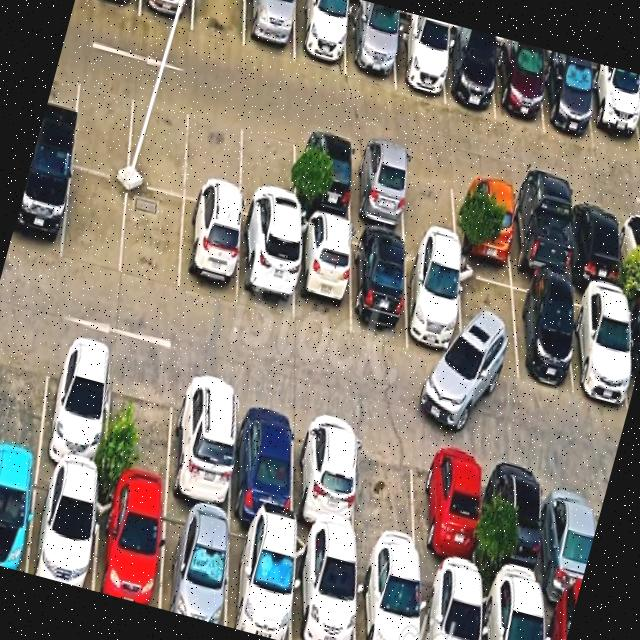empty: (103, 352, 175, 499), (356, 420, 419, 566), (127, 83, 192, 197), (61, 167, 128, 275), (0, 322, 51, 461), (458, 260, 517, 380), (71, 68, 134, 179), (120, 184, 184, 293), (239, 113, 295, 227), (184, 99, 241, 211), (403, 154, 457, 247), (191, 0, 245, 47)
occupied: (38, 334, 112, 480), (168, 370, 237, 516), (230, 387, 295, 529), (293, 403, 355, 548), (27, 466, 98, 590), (159, 501, 228, 626), (94, 484, 163, 608), (419, 435, 477, 582), (225, 519, 293, 640), (490, 452, 543, 596), (570, 283, 630, 406), (511, 273, 572, 389), (544, 466, 595, 604), (8, 151, 71, 260), (406, 244, 462, 365), (291, 535, 355, 640), (350, 229, 407, 346), (294, 216, 350, 335), (178, 199, 239, 306), (236, 216, 293, 321), (511, 182, 568, 281), (457, 168, 512, 264), (296, 128, 351, 224), (357, 555, 418, 640), (352, 141, 405, 235), (587, 70, 640, 161), (569, 196, 621, 288), (543, 55, 593, 148), (495, 43, 544, 133), (0, 457, 38, 572), (420, 568, 480, 640), (443, 34, 494, 118), (394, 20, 444, 103), (294, 0, 347, 75), (345, 8, 394, 87), (482, 583, 542, 640), (243, 0, 295, 62), (620, 207, 640, 292), (139, 0, 193, 30), (625, 296, 640, 399), (543, 597, 575, 640)
